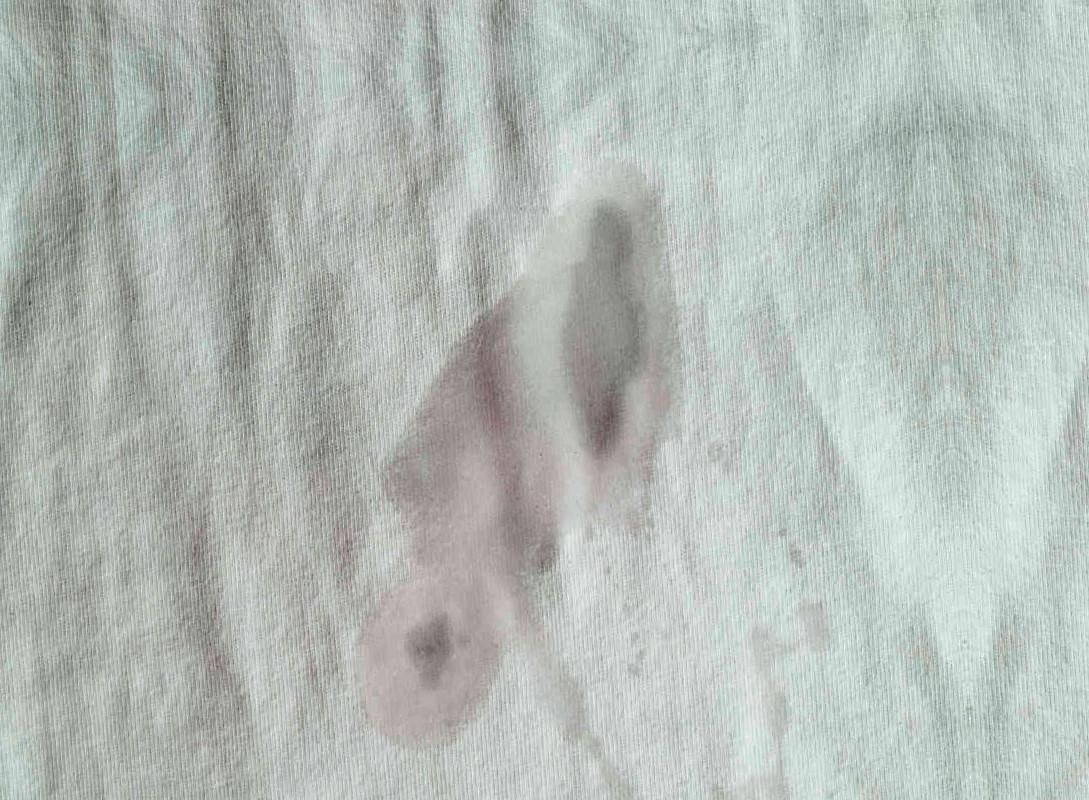stain: (362, 147, 686, 755)
